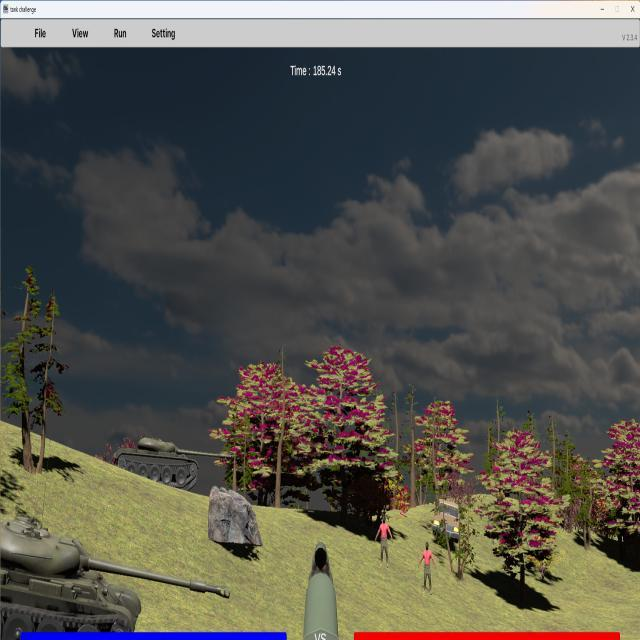Human: (375, 515, 394, 569), (418, 541, 436, 595)
Tank: (0, 510, 229, 640), (113, 435, 234, 493)
car: (431, 502, 461, 542)
